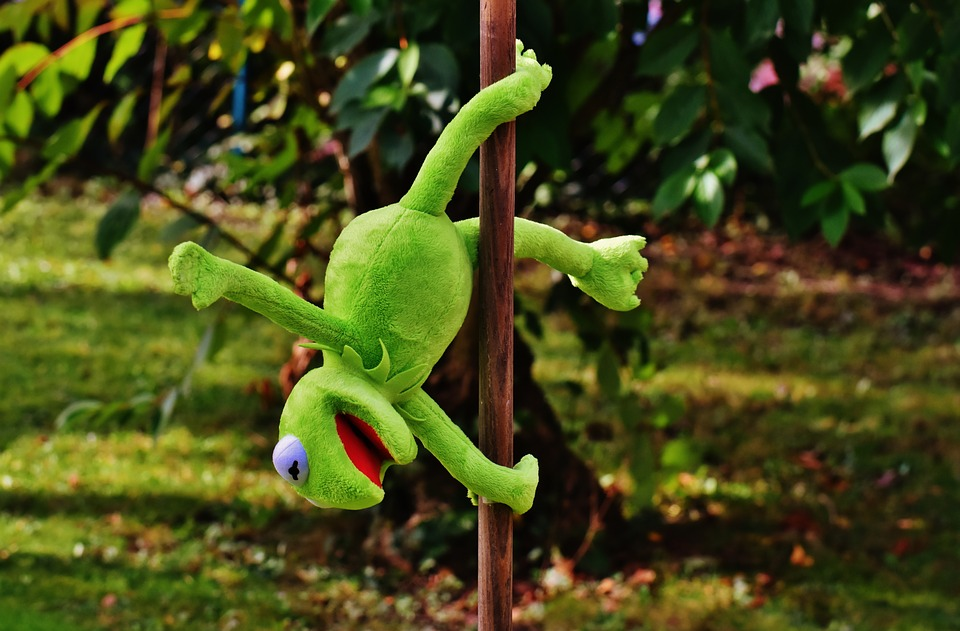kermit: (266, 364, 426, 518)
